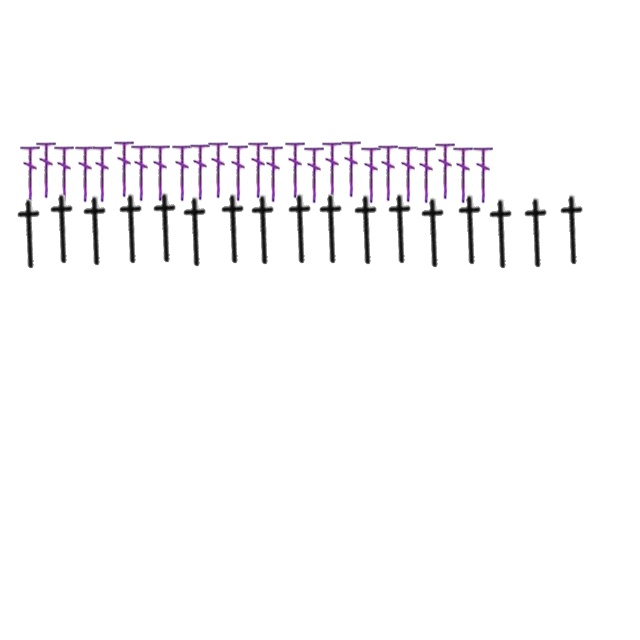double treble: (20, 143, 40, 203), (36, 139, 56, 199), (54, 143, 74, 203), (75, 143, 95, 203), (92, 143, 112, 203), (114, 138, 134, 198), (131, 142, 151, 202), (150, 142, 170, 202), (172, 142, 192, 202), (190, 141, 210, 201), (208, 139, 228, 199), (228, 142, 248, 202), (248, 139, 268, 199), (263, 143, 283, 203), (285, 139, 305, 199), (304, 144, 324, 204), (322, 139, 342, 199), (341, 138, 361, 198), (361, 144, 381, 204), (378, 142, 398, 202), (398, 143, 418, 203), (416, 144, 436, 204), (435, 140, 455, 200), (453, 144, 473, 204), (473, 144, 493, 204)
enseble_chain: (9, 198, 51, 270), (42, 193, 84, 265), (75, 195, 117, 267), (111, 193, 153, 265), (145, 192, 187, 264), (175, 196, 217, 268), (213, 193, 255, 265), (243, 194, 285, 266), (280, 193, 322, 265), (311, 193, 353, 265), (346, 194, 388, 266), (380, 193, 422, 265), (413, 197, 455, 269), (450, 194, 492, 266), (481, 198, 523, 270), (516, 197, 558, 269), (552, 194, 594, 266)
